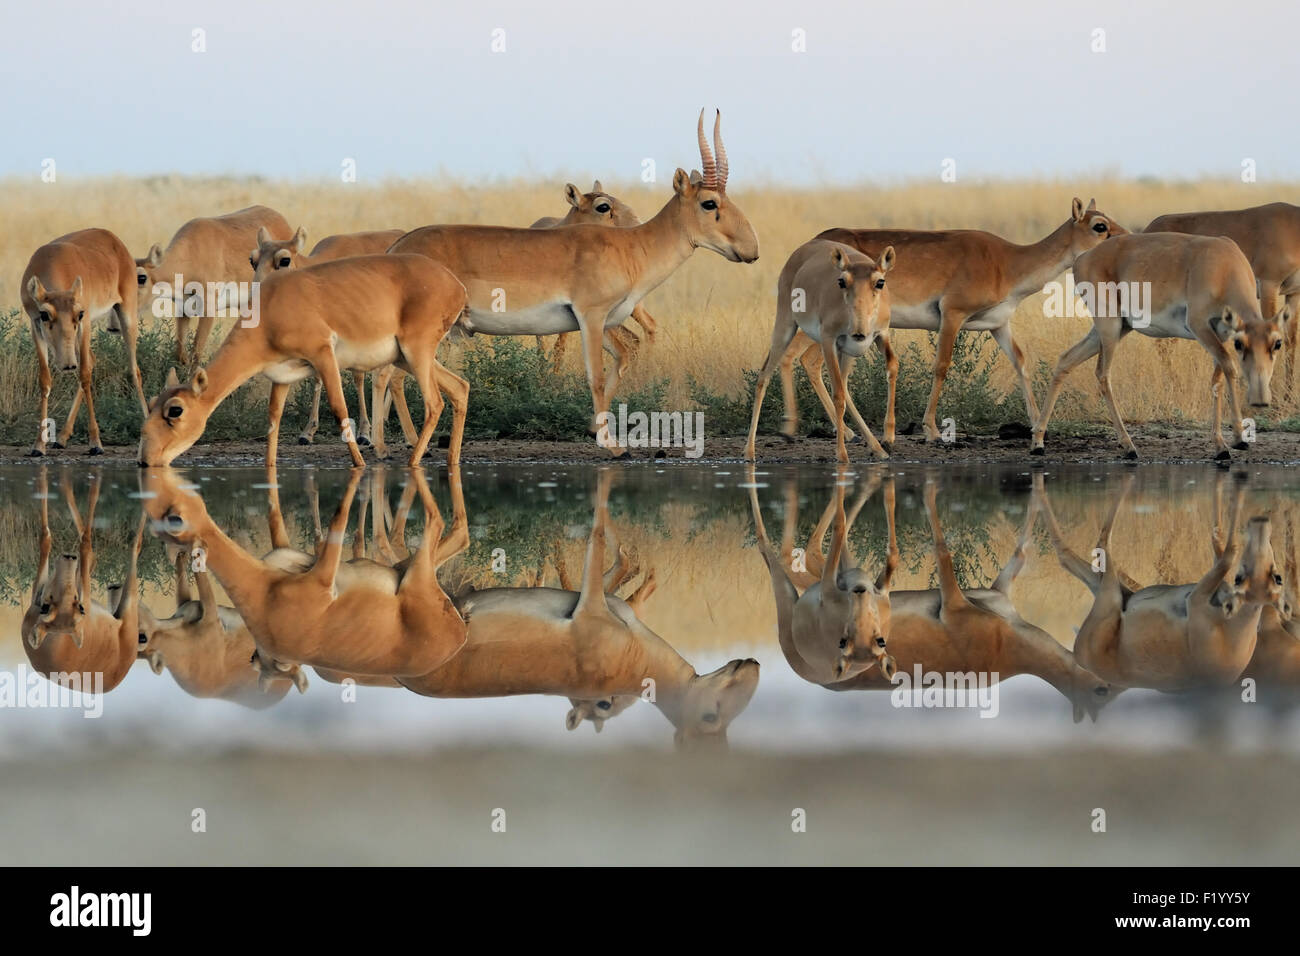saiga: (380, 91, 752, 464), (100, 258, 515, 496), (1060, 220, 1276, 476), (745, 238, 905, 460), (32, 212, 149, 461)
